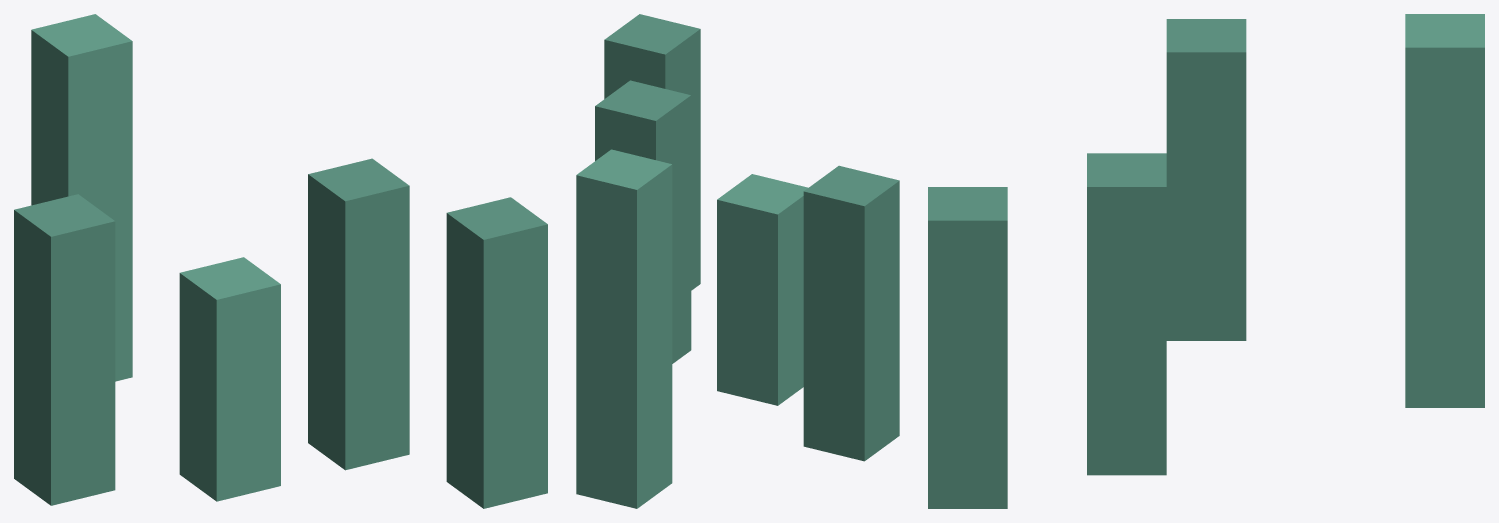
The model's file is posidonia_03.glb.
3 views of the same model, side by side, from view 1: azimuth 30°, elevation 25°; view 2: azimuth 150°, elevation 25°; view 3: azimuth 270°, elevation 25° (orthographic). The views are drawn at different scales.
Visible parts, largest first — view 1: posidonia_03; view 2: posidonia_03; view 3: posidonia_03.
Boxes of the visible parts, x1,y1,x2,y2 form: posidonia_03: (14, 14, 547, 508); posidonia_03: (576, 14, 899, 508); posidonia_03: (928, 14, 1484, 508).
Bounding box in the file's own units: 0.6 × 0.5 × 0.7.
